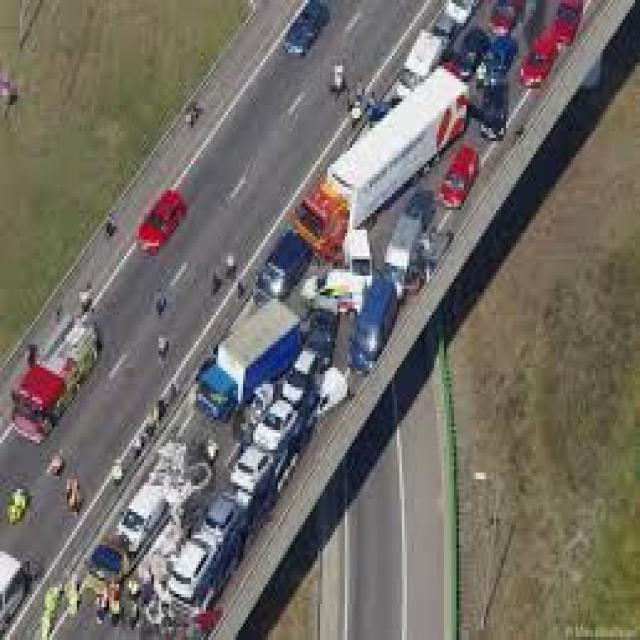traffic_incident: (129, 0, 469, 597)
